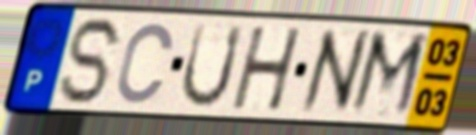C: (113, 20, 177, 107)
H: (229, 25, 306, 113)
M: (344, 27, 433, 122)
N: (297, 26, 373, 118)
S: (56, 14, 129, 107)
U: (177, 20, 247, 111)
